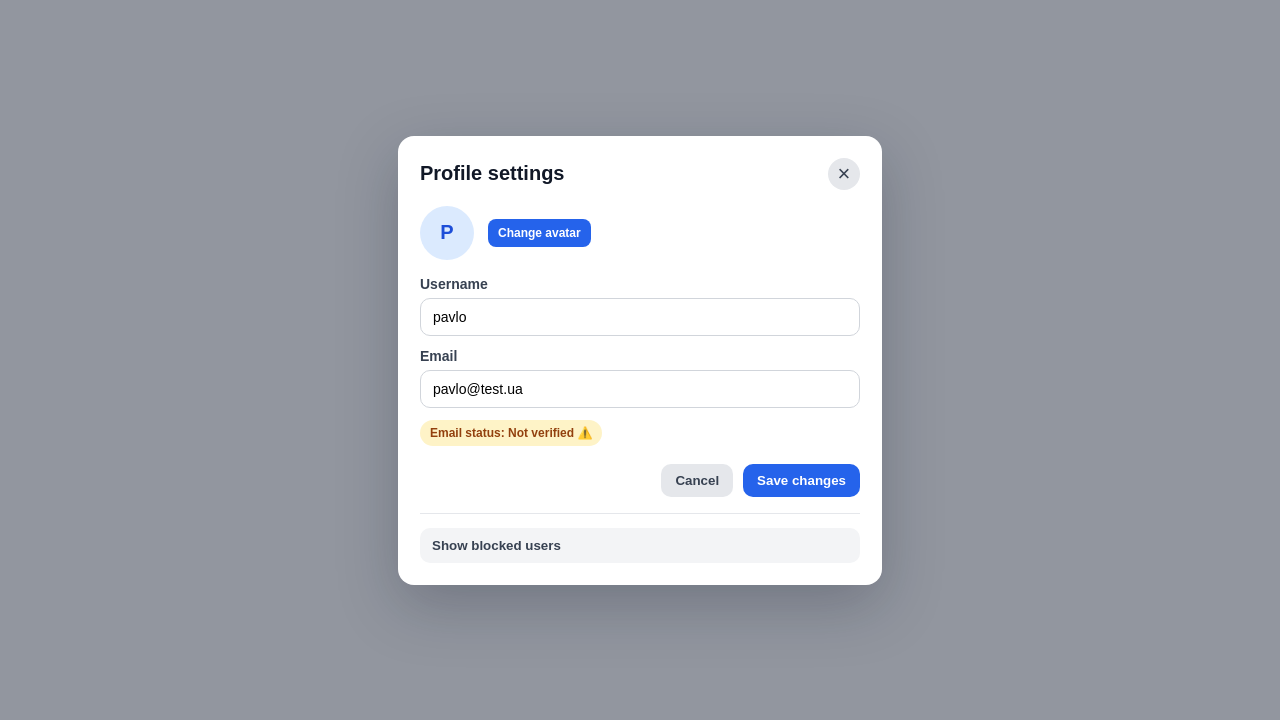
ProfileSettingsModal › loads blocked users when blocked users panel is opened
The image size is (1280, 720).
Click the button "Show blocked users": (496, 545) [420, 528, 860, 562]
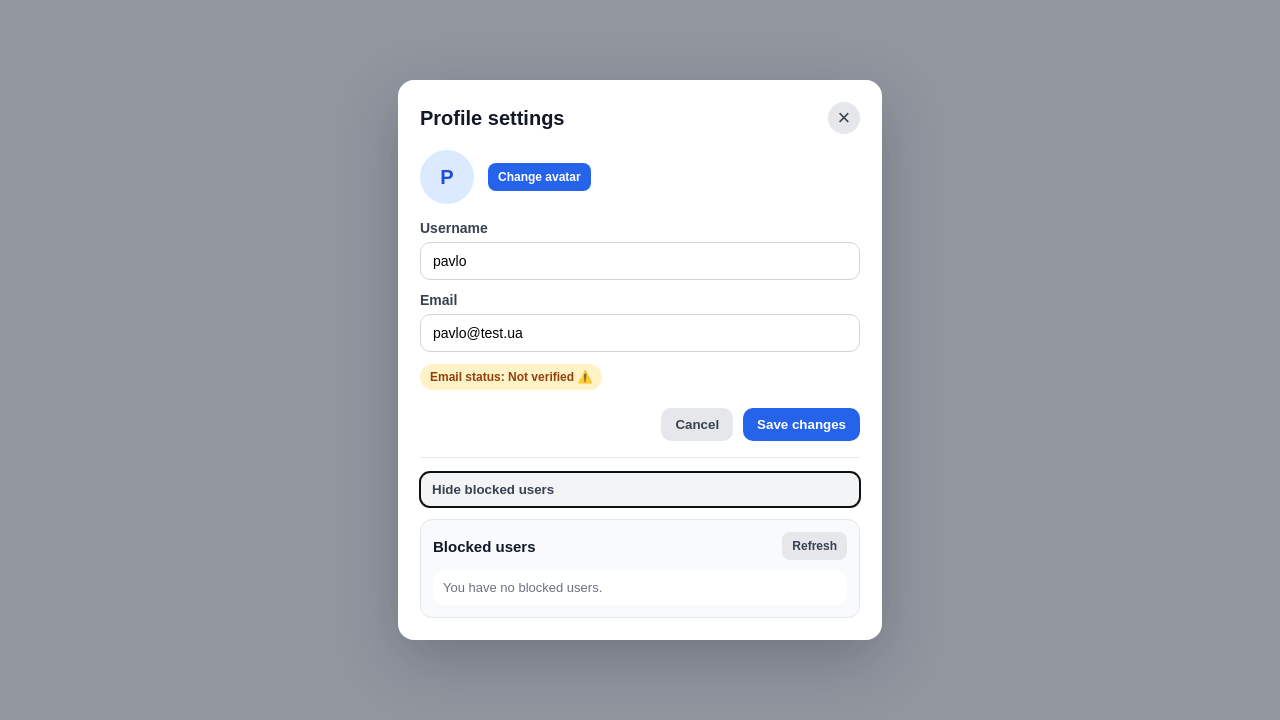
expect the button "Hide blocked users" is shown: met, box [420, 472, 860, 507]
expect the heading "Blocked users" is shown: met, box [433, 538, 536, 554]
expect the text "You have no blocked users." is shown: met, box [433, 570, 847, 605]
